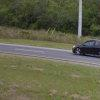Car: (66, 36, 100, 62)
